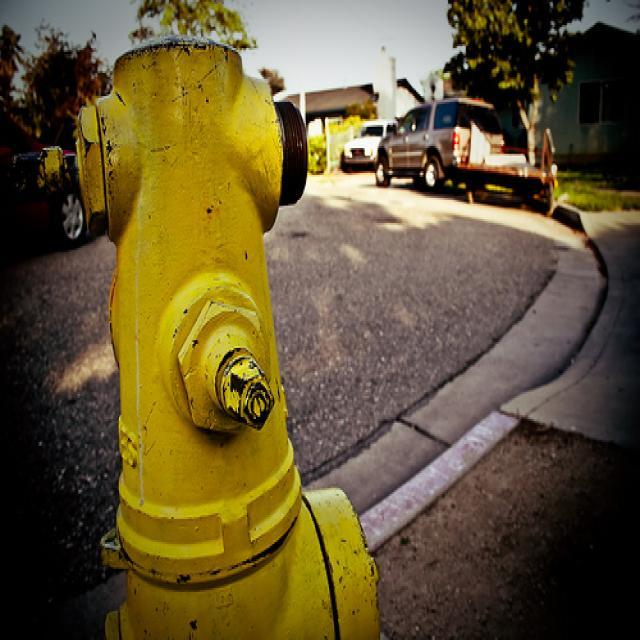fire_hydrant: (22, 41, 380, 628)
